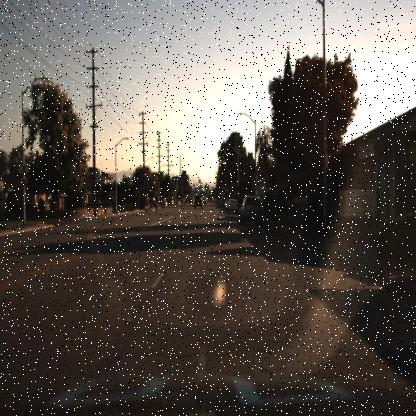car: (236, 193, 264, 229), (190, 192, 206, 212), (225, 194, 241, 214)
